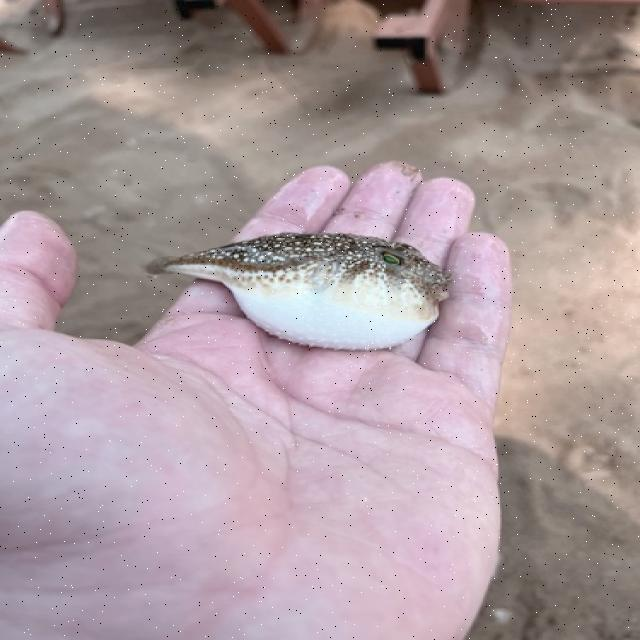Balik: (147, 233, 450, 349)
